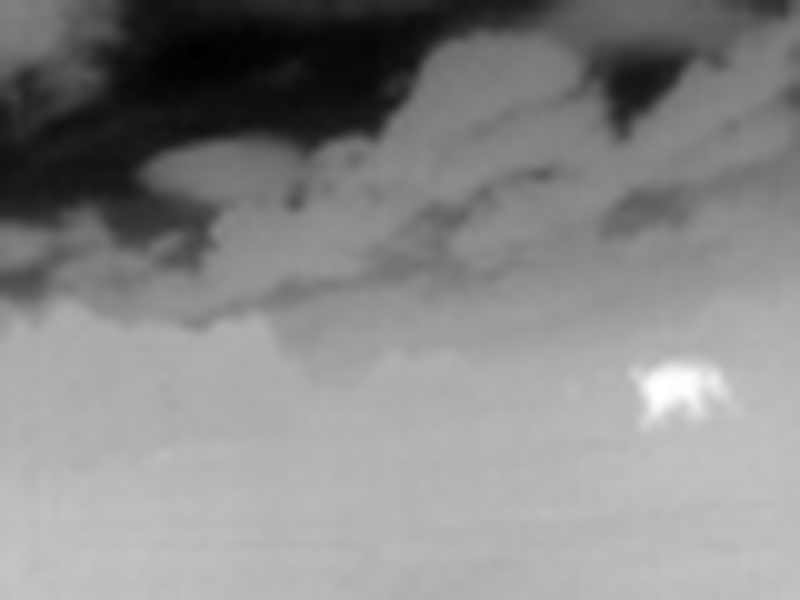elephant: (628, 345, 728, 434)
